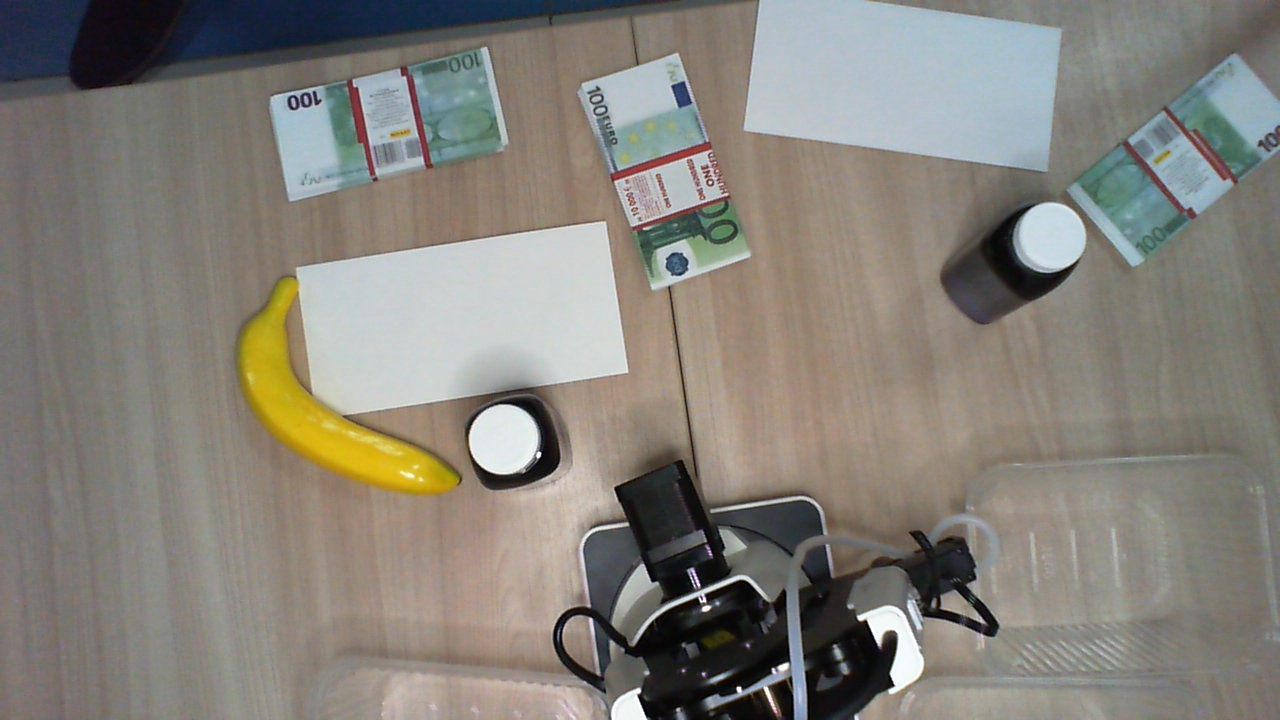banana: (233, 274, 463, 495)
bottle: (464, 387, 558, 491), (983, 200, 1085, 294)
convert: (292, 219, 628, 420), (742, 1, 1061, 172)
money: (1064, 51, 1280, 267), (573, 53, 744, 279), (269, 45, 506, 206)
